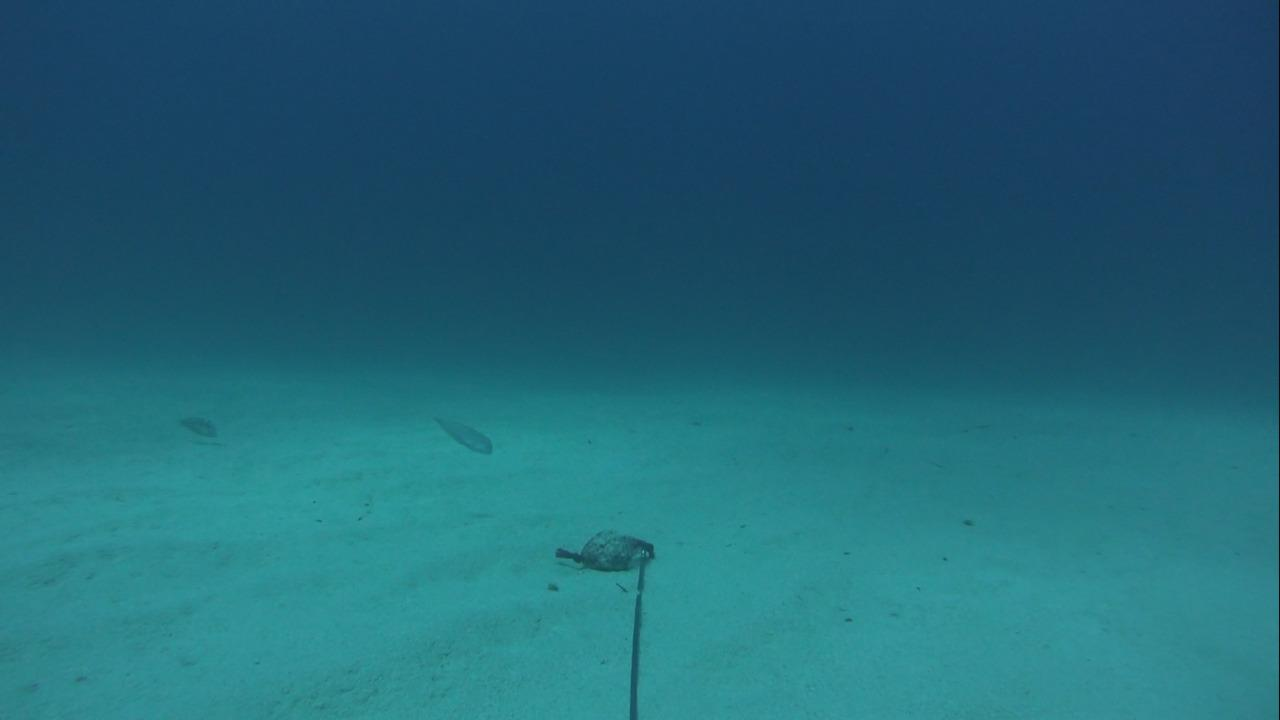raor: (424, 408, 499, 458)
